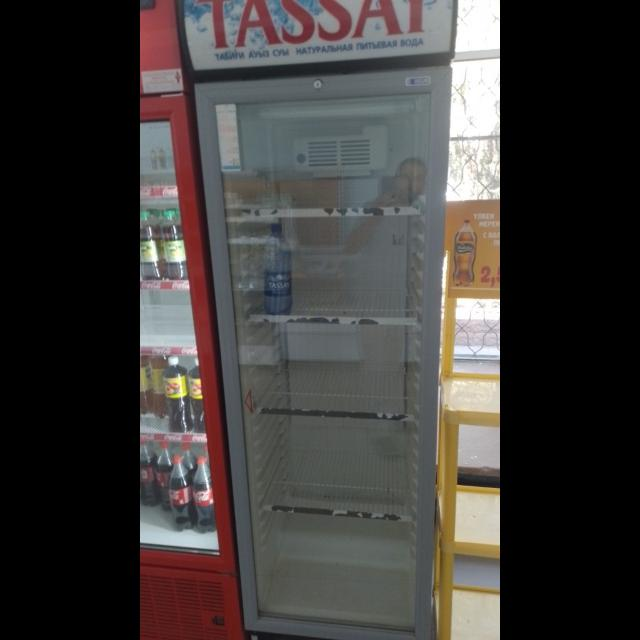Cooling-Display: (181, 0, 457, 620)
